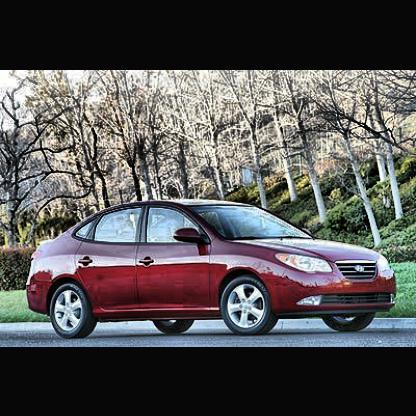Hyundai Elantra Sedan 2007: (26, 200, 400, 339)
